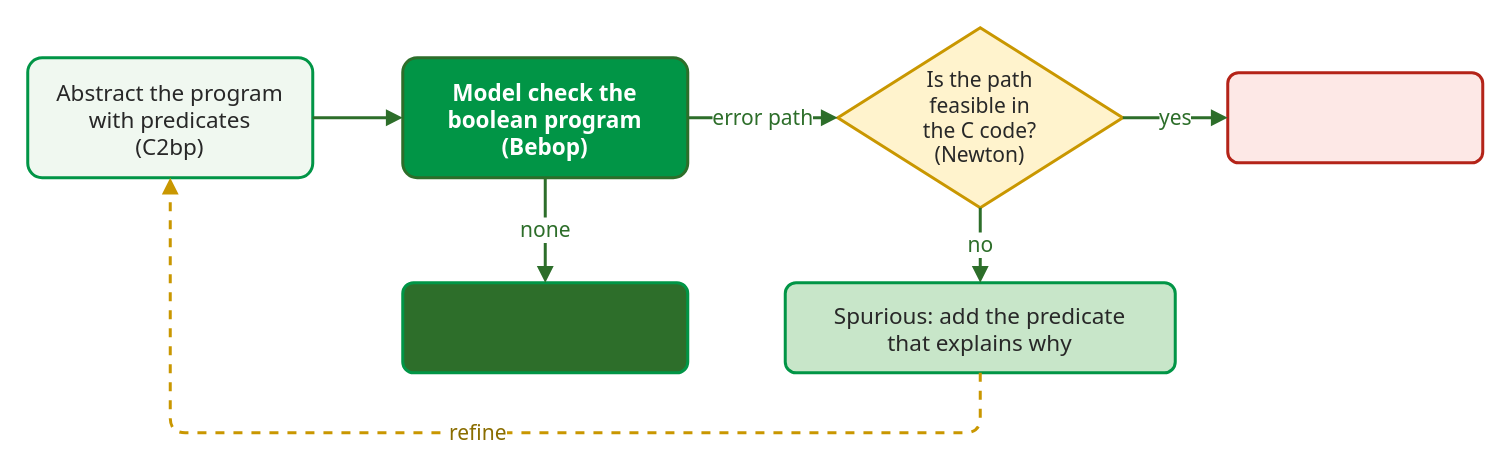
Image size: 1509x471. Some labels were removed from this diagram. Here are the shapes that lost their labels. From the top down, the centre of each, then its label:
At (x=1355, y=117): "Real bug: report the trace".
At (x=544, y=327): "No error path: property holds".
